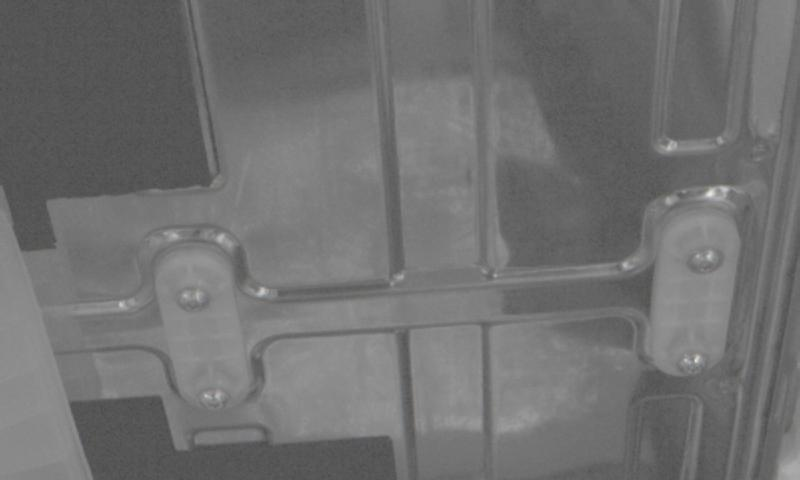vida-ok: (682, 239, 728, 283), (169, 275, 215, 319), (668, 342, 714, 382), (189, 376, 234, 415)
